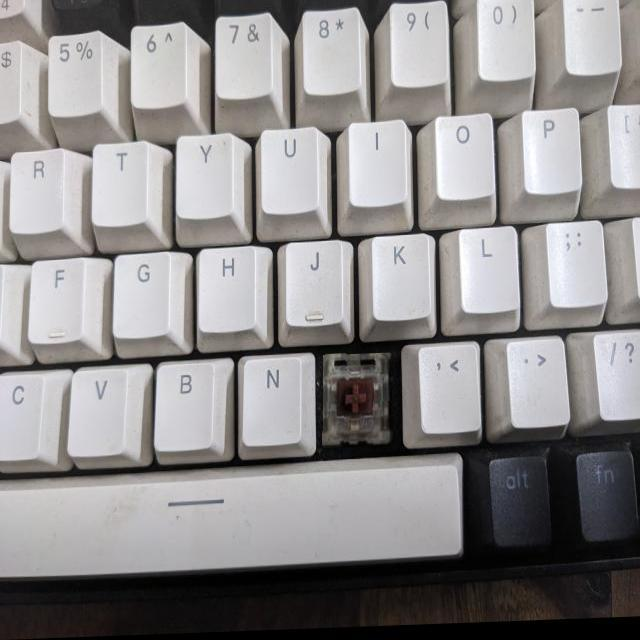key-switch: (323, 356, 395, 453)
